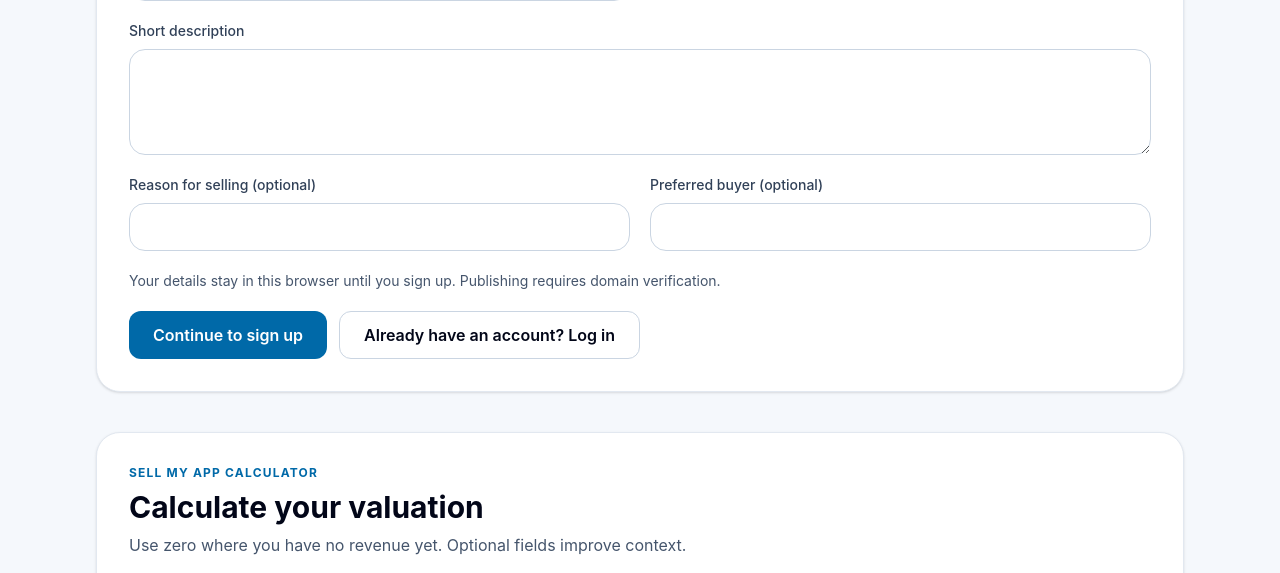
Test: Sell my app flow › shows sale fields before sign-up and keeps the guest draft across authentication
Later steps or results of the test are not shown.
(page scrolled)
Expected: the text box labelled "Short description" is shown, [129,49,1151,155]
Click the link "Continue to sign up". click: (228, 335)
box: [129,311,327,359]
(page scrolled)
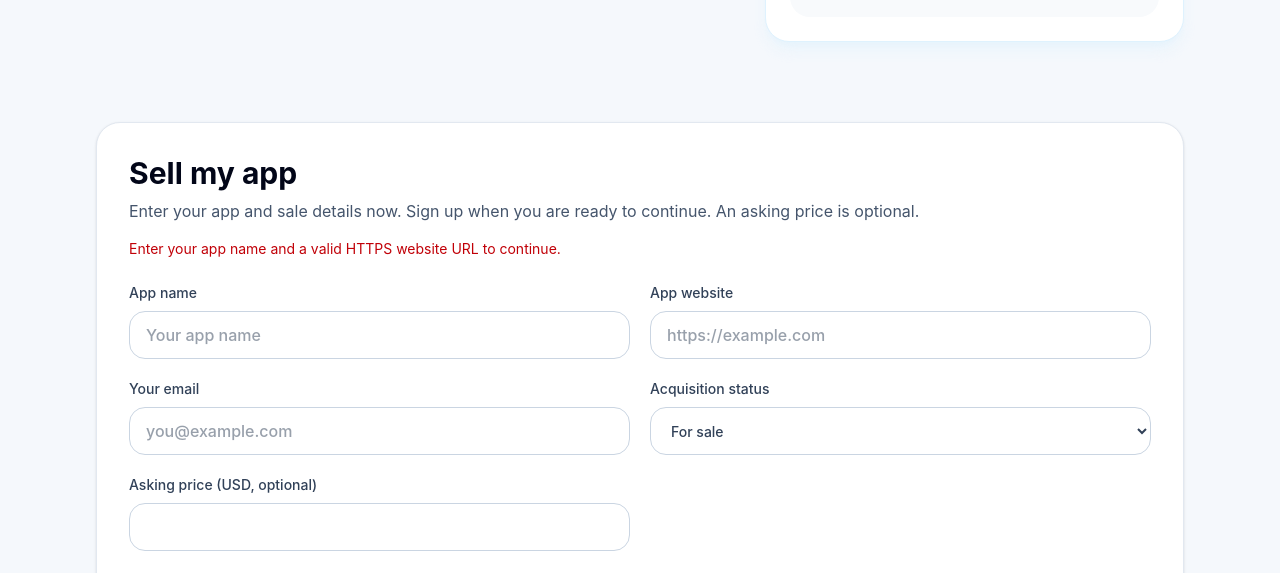
Now the message shows "app name", box [129,240,561,257]
